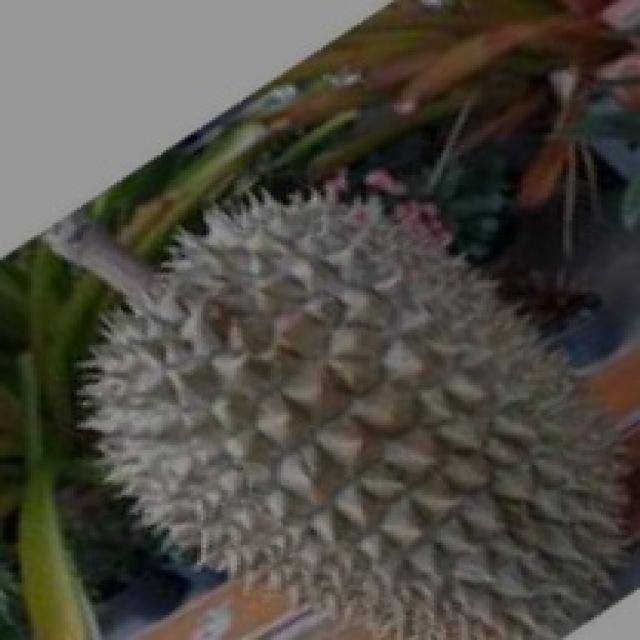fruit: (264, 197, 640, 634), (25, 230, 403, 630)
